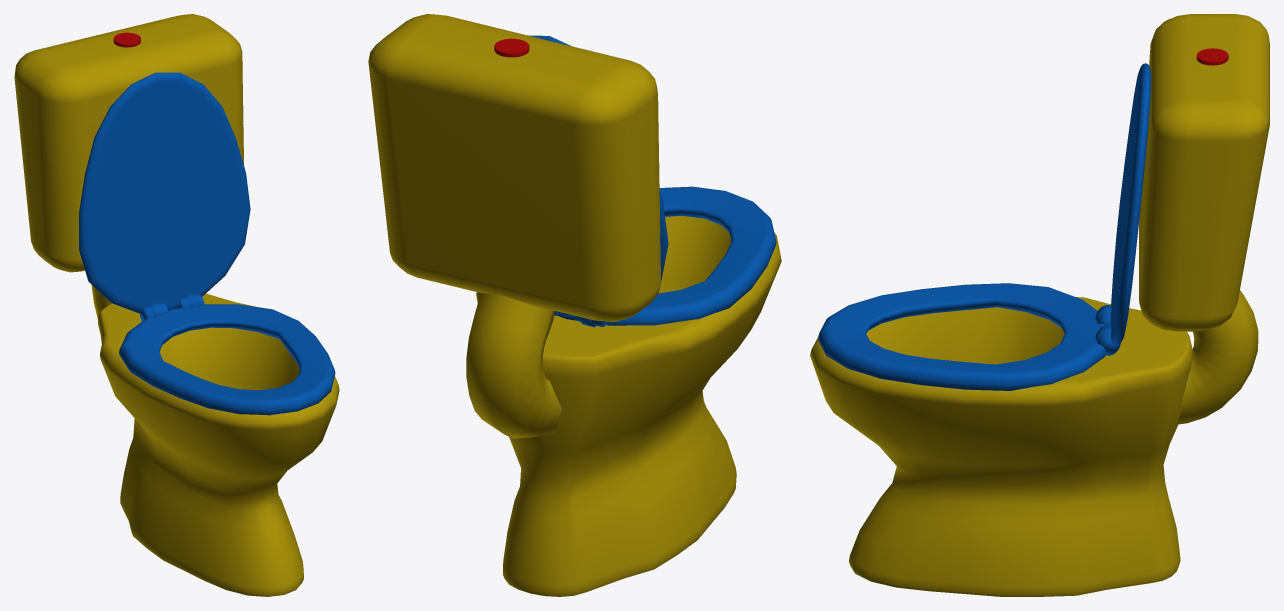
File: ASS_toiletseat_v000.fbx
3 renders of one model, left to right at view 1: azimuth 30°, elevation 25°; view 2: azimuth 150°, elevation 25°; view 3: azimuth 270°, elevation 25°, orthographic. The views are drawn at different scales.
Parts seen in each view (by area): view 1: polySurface1, polySurface3, pCube1, polySurface2; view 2: pCube1, polySurface1, pCube2, polySurface2, polySurface3, pCylinder6; view 3: polySurface1, pCube1, polySurface2, pCube2, polySurface3.
Part boxes in pixels (<box>): polySurface1: <box>98,293,339,596</box>; polySurface3: <box>79,72,250,313</box>; pCube1: <box>14,14,243,272</box>; polySurface2: <box>119,304,335,415</box>; pCube1: <box>368,14,660,321</box>; polySurface1: <box>476,216,781,596</box>; pCube2: <box>466,293,561,438</box>; polySurface2: <box>558,186,776,325</box>; polySurface3: <box>528,35,668,316</box>; pCylinder6: <box>494,38,529,57</box>; polySurface1: <box>810,297,1192,596</box>; pCube1: <box>1139,14,1269,331</box>; polySurface2: <box>818,283,1105,390</box>; pCube2: <box>1177,290,1258,424</box>; polySurface3: <box>1110,63,1151,345</box>.
Size of the model in its own units: 6.63 by 13.96 by 11.34.
